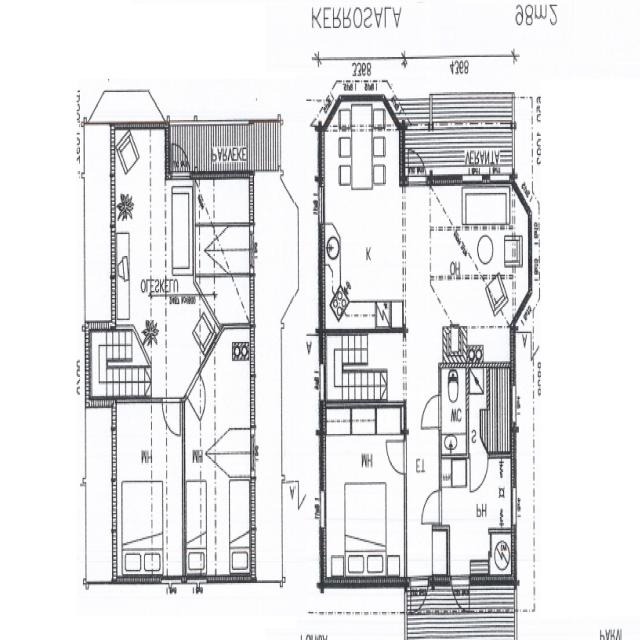door: (185, 371, 211, 420), (410, 579, 428, 622), (172, 137, 190, 179), (409, 143, 426, 184), (452, 579, 469, 620), (162, 399, 180, 437), (387, 442, 407, 475), (470, 454, 487, 492), (422, 492, 442, 524), (422, 396, 442, 428)
